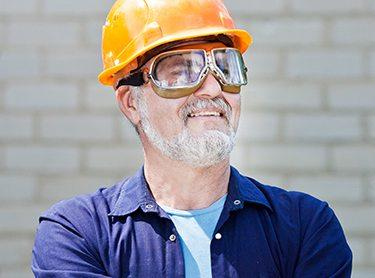helmet: (99, 1, 254, 87)
